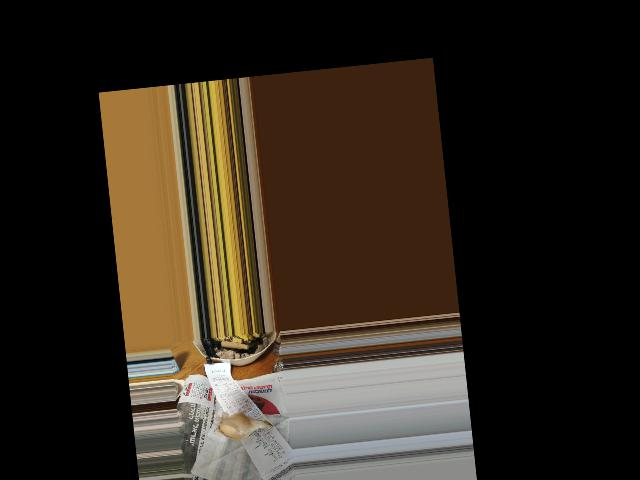onion: (216, 408, 267, 442)
